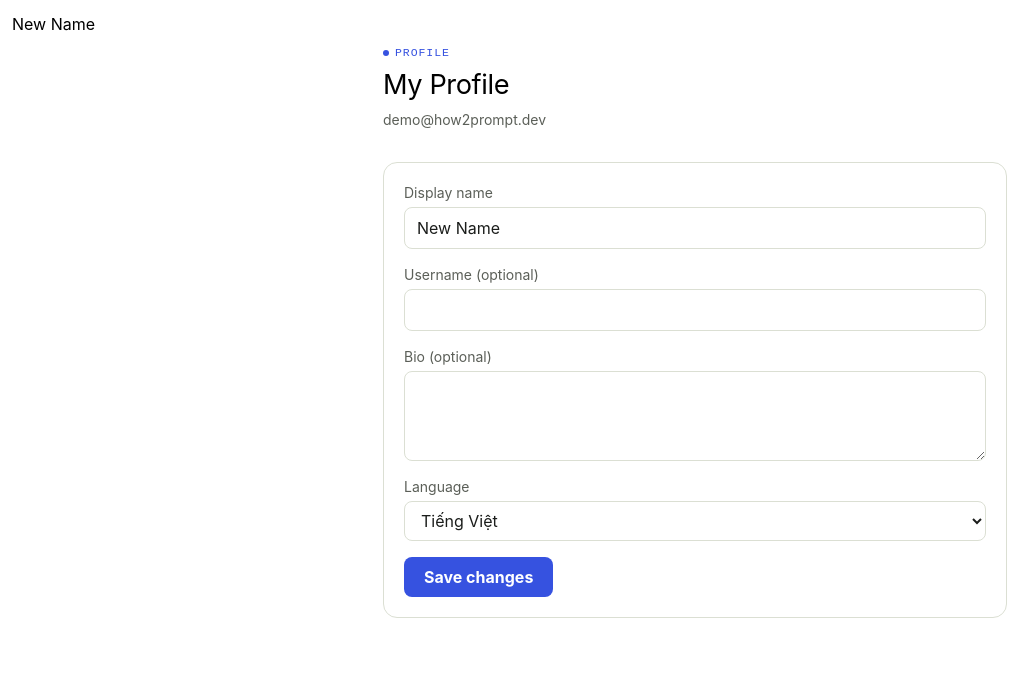
ProfileSettingsPage › allows saving with a blank username (Edge Case)
Expected: the field labelled "Username (optional)" is empty, [404, 289, 986, 331]
Click the button "Save changes".
click(479, 577)  # box [404, 557, 553, 597]
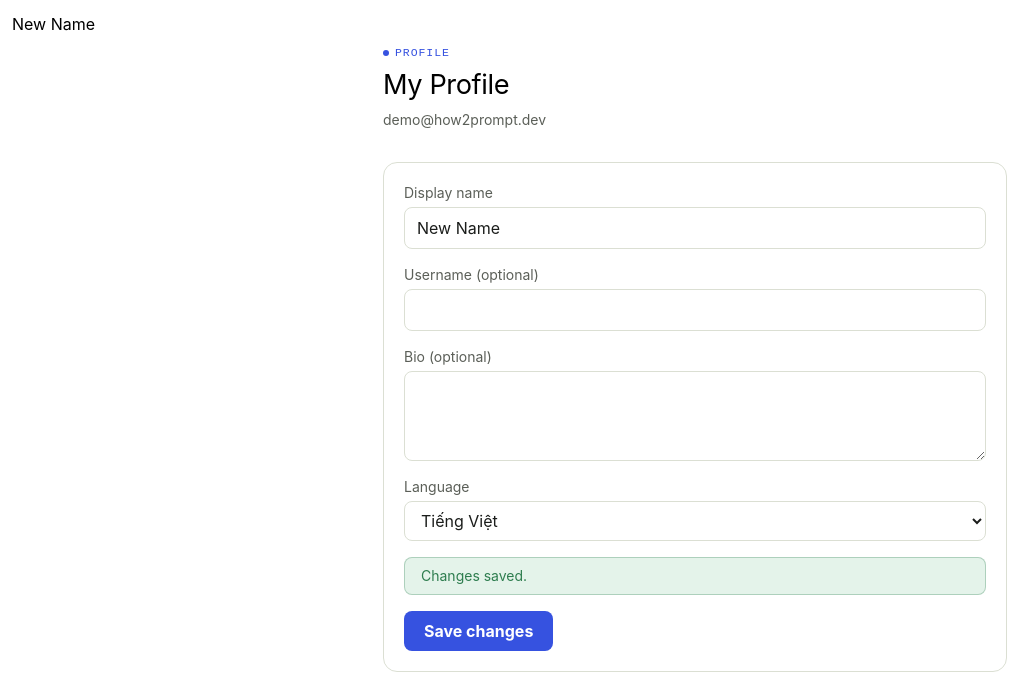
Expected: the message "Changes saved." is shown, [404, 557, 986, 595]
